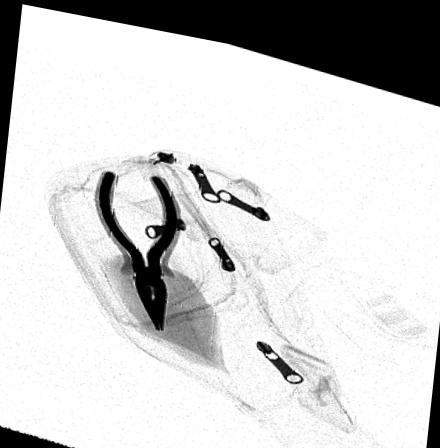Pliers: (94, 165, 184, 328)
